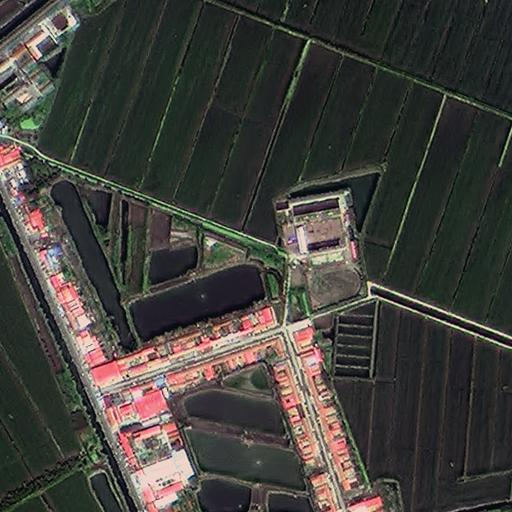school: (277, 189, 360, 316)
